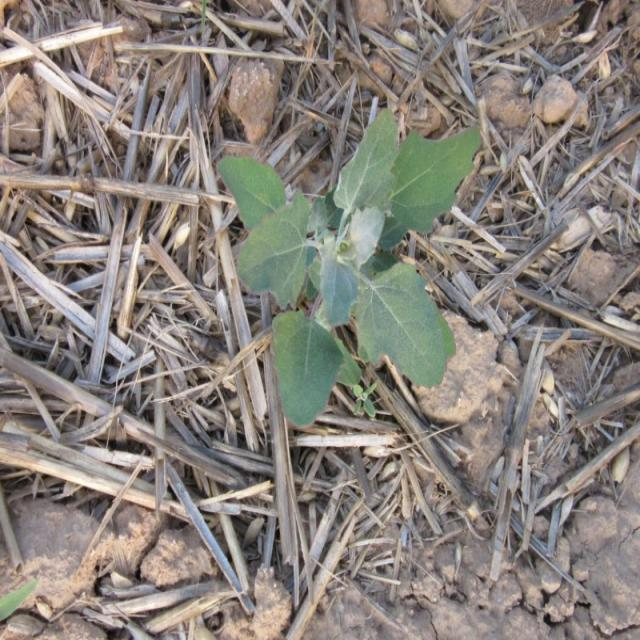ca: (213, 114, 481, 426)
